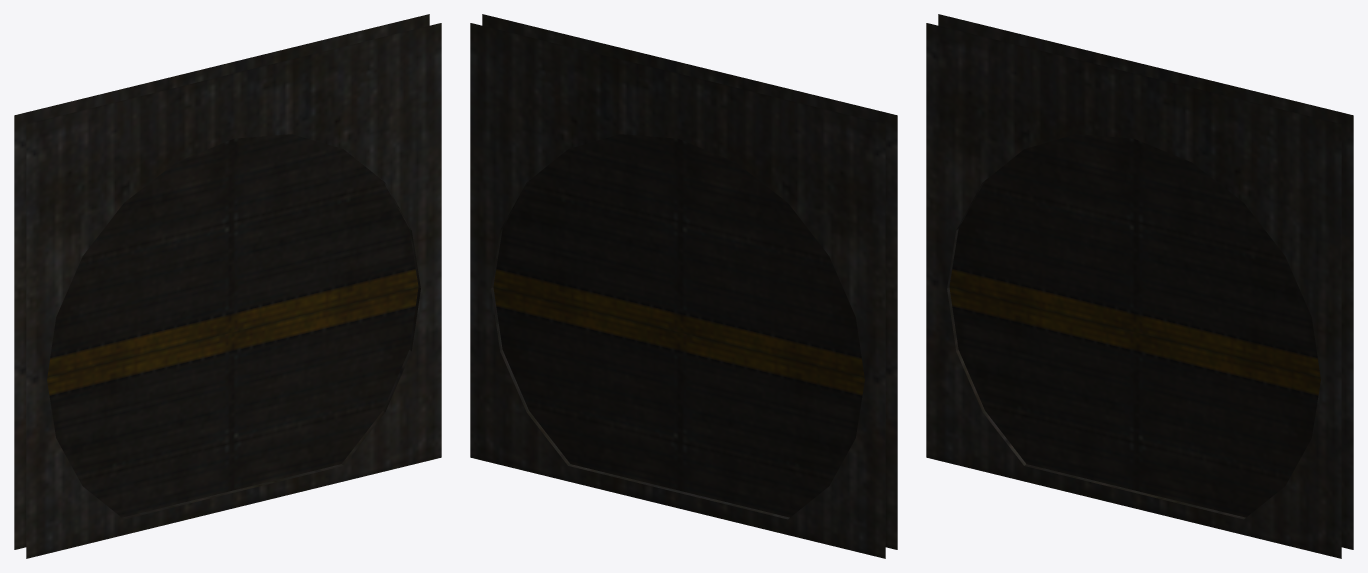
Rendered from doorway_wide_1.obj.
3 views of the same model, side by side, from view 1: azimuth 30°, elevation 25°; view 2: azimuth 150°, elevation 25°; view 3: azimuth 330°, elevation 25° (orthographic).
Parts seen in each view (by area): view 1: doorway_wide_1, door_wide_1_top, door_wide_1_bottom; view 2: doorway_wide_1, door_wide_1_top, door_wide_1_bottom; view 3: doorway_wide_1, door_wide_1_top, door_wide_1_bottom.
Boxes of the visible parts, box(x1,y1,x2,y2) form: doorway_wide_1: box(14, 14, 441, 558); door_wide_1_top: box(47, 134, 418, 377); door_wide_1_bottom: box(47, 287, 418, 517); doorway_wide_1: box(470, 14, 897, 558); door_wide_1_top: box(493, 134, 864, 377); door_wide_1_bottom: box(493, 287, 864, 517); doorway_wide_1: box(926, 14, 1353, 558); door_wide_1_top: box(949, 134, 1320, 377); door_wide_1_bottom: box(949, 287, 1320, 517).
Size of the model in its own units: 2 by 2 by 0.1.
